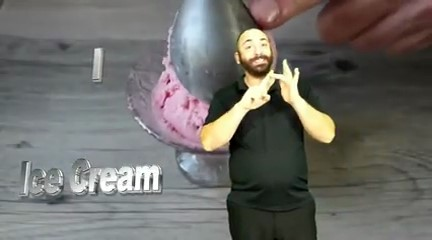I: (241, 58, 301, 112)
